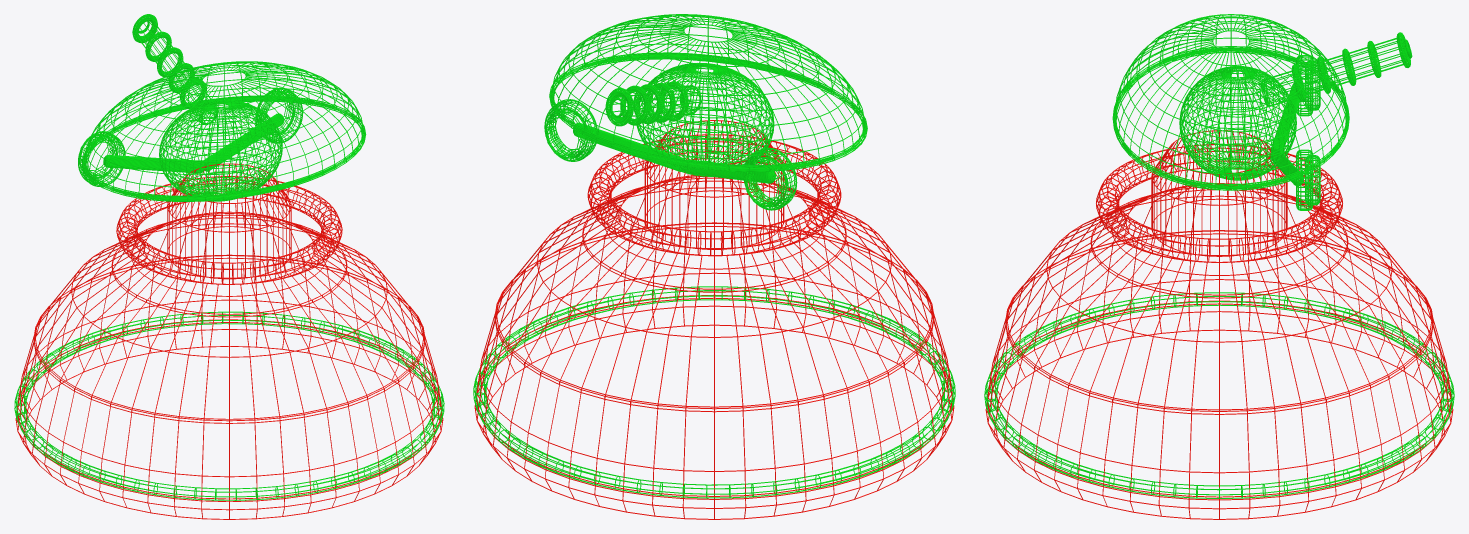
Rendered from plasma-turret-highlight-armoured-power-base.glb.
The picture shows the model from 3 angles, left to right: view 1: azimuth 30°, elevation 25°; view 2: azimuth 150°, elevation 25°; view 3: azimuth 270°, elevation 25°; orthographic projection. The views are drawn at different scales.
Visible parts, largest first — view 1: armoured-power-base technical wire, water-cooled-plasma-delivery technical wire, chassis technical wire, tracking-and-ranging-sensors technical wire; view 2: armoured-power-base technical wire, water-cooled-plasma-delivery technical wire, chassis technical wire, tracking-and-ranging-sensors technical wire; view 3: armoured-power-base technical wire, water-cooled-plasma-delivery technical wire, chassis technical wire, tracking-and-ranging-sensors technical wire.
Boxes of the visible parts, x1,y1,x2,y2 form: armoured-power-base technical wire: (15,163,443,519); water-cooled-plasma-delivery technical wire: (82,14,366,201); chassis technical wire: (14,311,444,500); tracking-and-ranging-sensors technical wire: (78,88,303,186); armoured-power-base technical wire: (474,120,954,519); water-cooled-plasma-delivery technical wire: (549,14,867,176); chassis technical wire: (473,286,955,498); tracking-and-ranging-sensors technical wire: (544,99,797,210); armoured-power-base technical wire: (985,130,1453,519); water-cooled-plasma-delivery technical wire: (1112,14,1412,190); chassis technical wire: (984,292,1454,498); tracking-and-ranging-sensors technical wire: (1270,55,1320,210).
Size of the model in its own units: 2.02 by 1.85 by 2.02.
